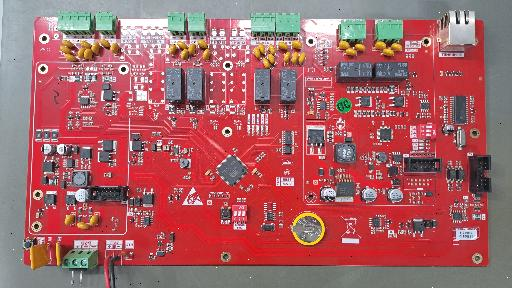var: (28, 238, 52, 272), (54, 241, 65, 271), (380, 47, 396, 58), (276, 41, 291, 52), (343, 48, 359, 58), (88, 213, 98, 229), (291, 39, 304, 51), (62, 214, 75, 226), (298, 51, 307, 68), (109, 42, 119, 56), (389, 43, 404, 52), (180, 46, 189, 61), (283, 50, 291, 66), (188, 41, 196, 57), (373, 42, 387, 51), (252, 45, 261, 59), (202, 49, 211, 63), (265, 53, 276, 64), (291, 52, 299, 67), (99, 38, 111, 48), (354, 43, 367, 52), (257, 42, 266, 55), (337, 41, 351, 49), (91, 41, 99, 55), (76, 47, 84, 61), (77, 221, 88, 231), (83, 49, 92, 61), (168, 44, 176, 57), (196, 40, 207, 49), (175, 40, 187, 48), (62, 54, 75, 61), (268, 44, 276, 55), (79, 40, 90, 48), (61, 38, 72, 46), (58, 46, 70, 53), (263, 58, 271, 68)
